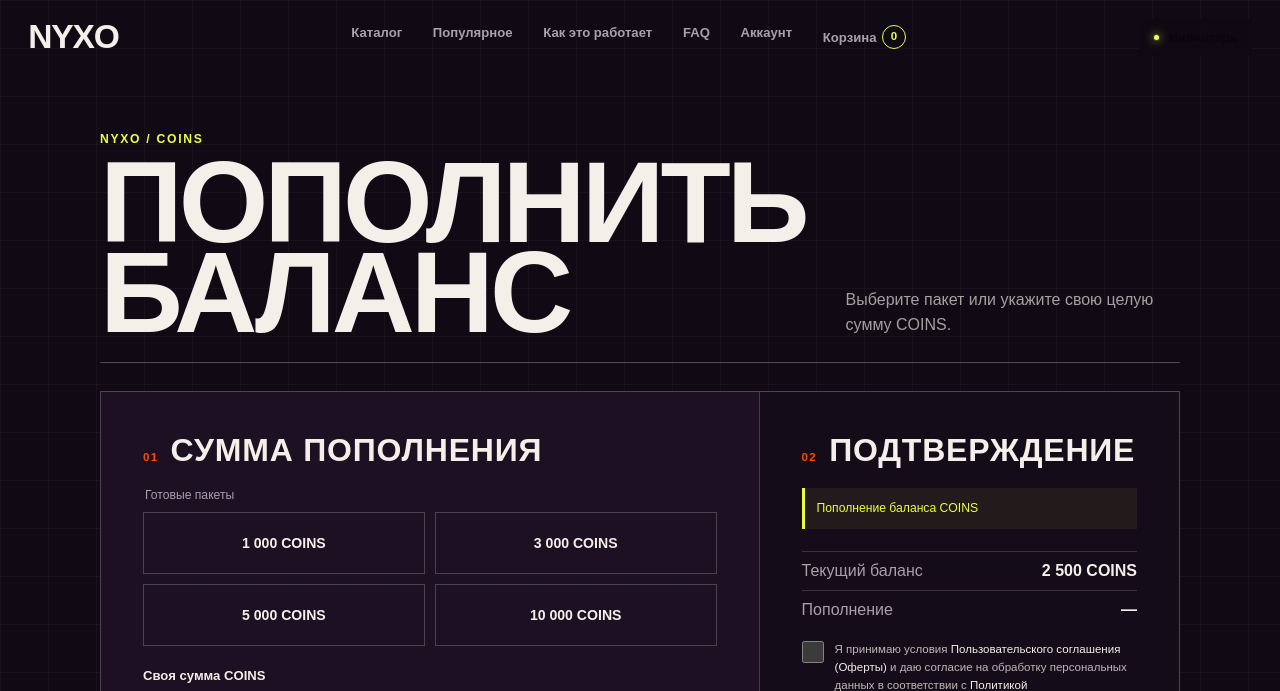
Test case: TopUpPage › shows the new balance and returns to a safe known internal route after success
Click the radio button labelled "1 000 COINS" at (284, 543), box x1=143 y1=512 x2=425 y2=574
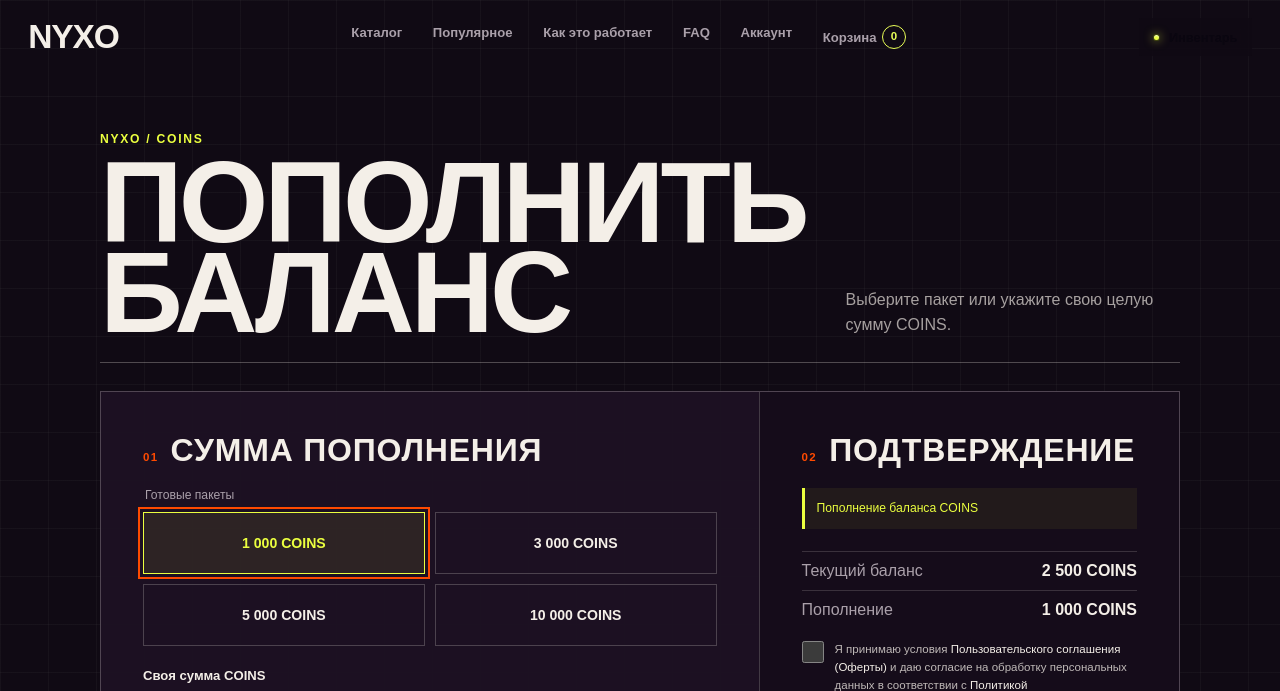
Click the checkbox named "Я принимаю условия Пользовательского соглашения (Оферты) и даю согласие на обработку персональных данных в соответствии " at (813, 652), box x1=802 y1=641 x2=824 y2=663
(page scrolled)
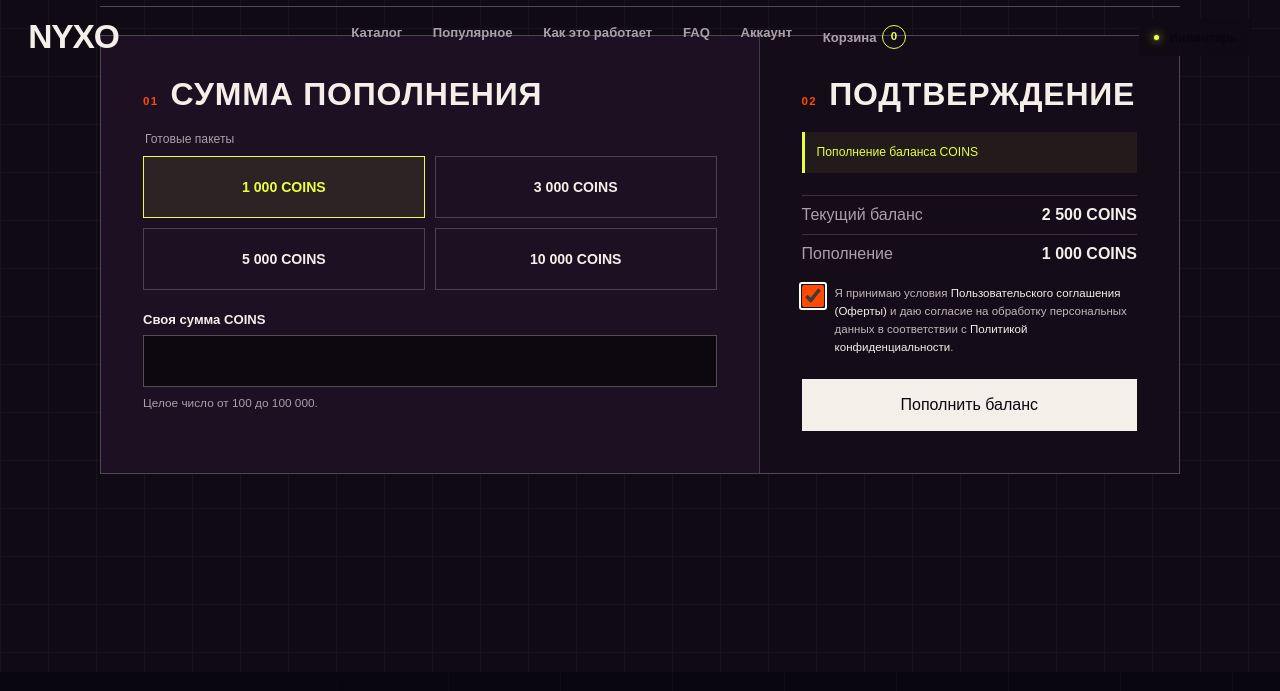
Click the button "Пополнить баланс" at (969, 405), box x1=802 y1=379 x2=1137 y2=431
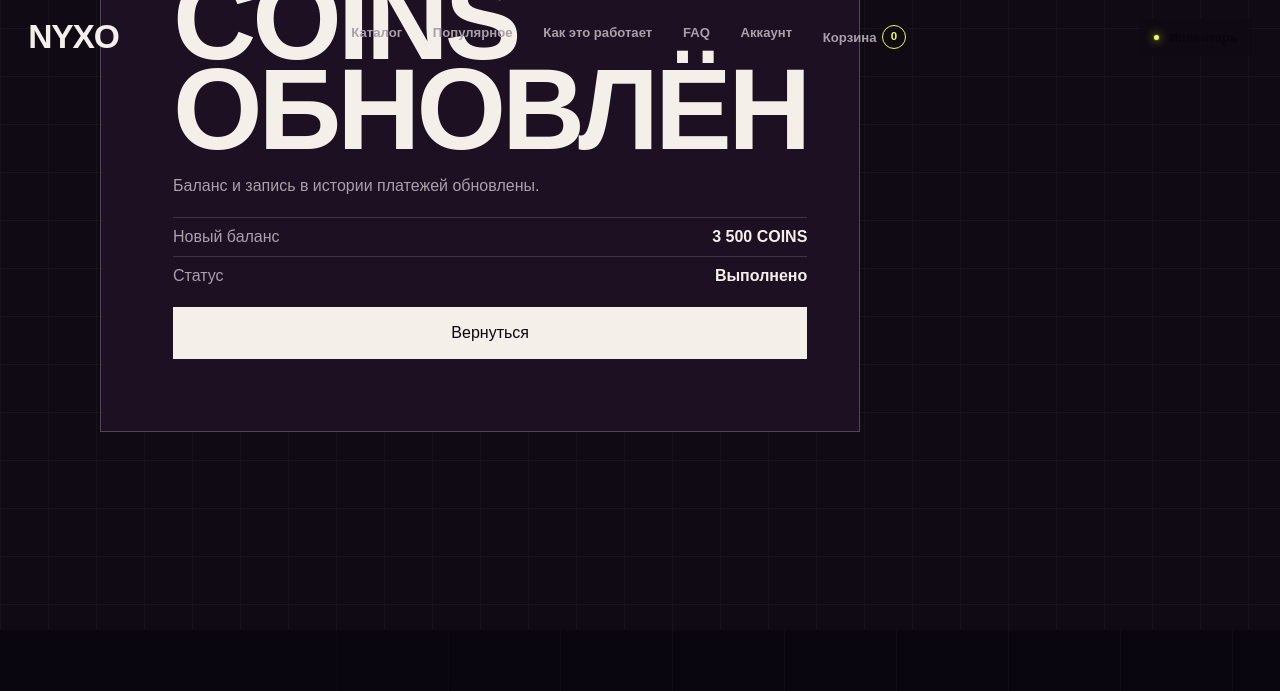
Check: the message shows "Баланс и запись в истории платежей обновлены", box x1=173 y1=176 x2=539 y2=194
Check: the text "3 500 COINS" is shown, box x1=712 y1=228 x2=807 y2=246
